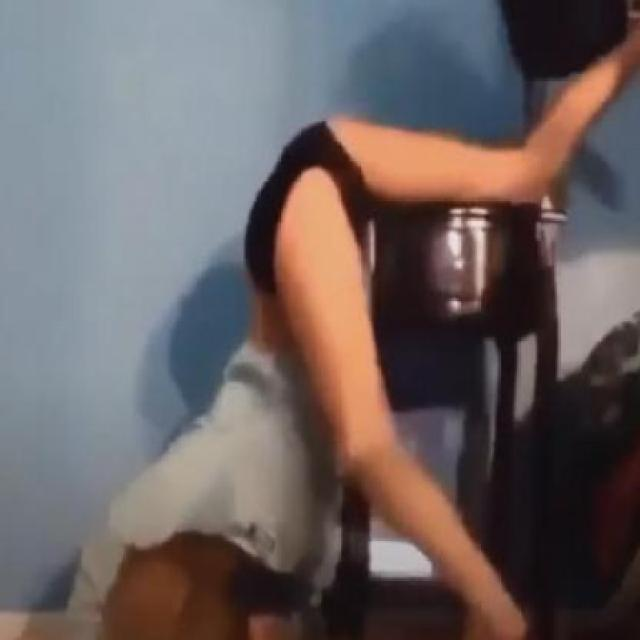fall: (74, 4, 638, 639)
